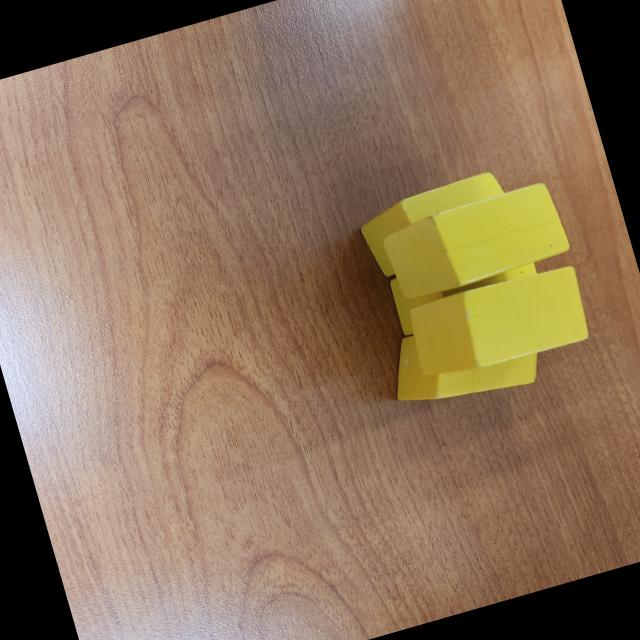yellow: (400, 259, 597, 386), (376, 178, 574, 304), (380, 300, 546, 420), (354, 168, 520, 280), (384, 240, 545, 338)
